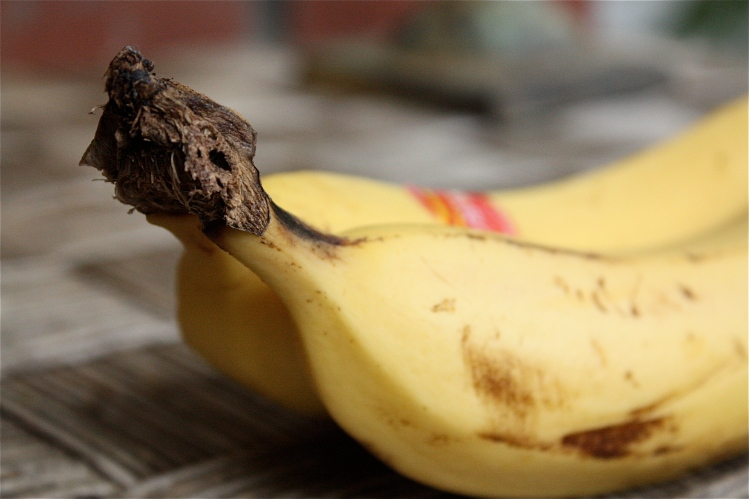looks_defective: (1, 1, 513, 418)
